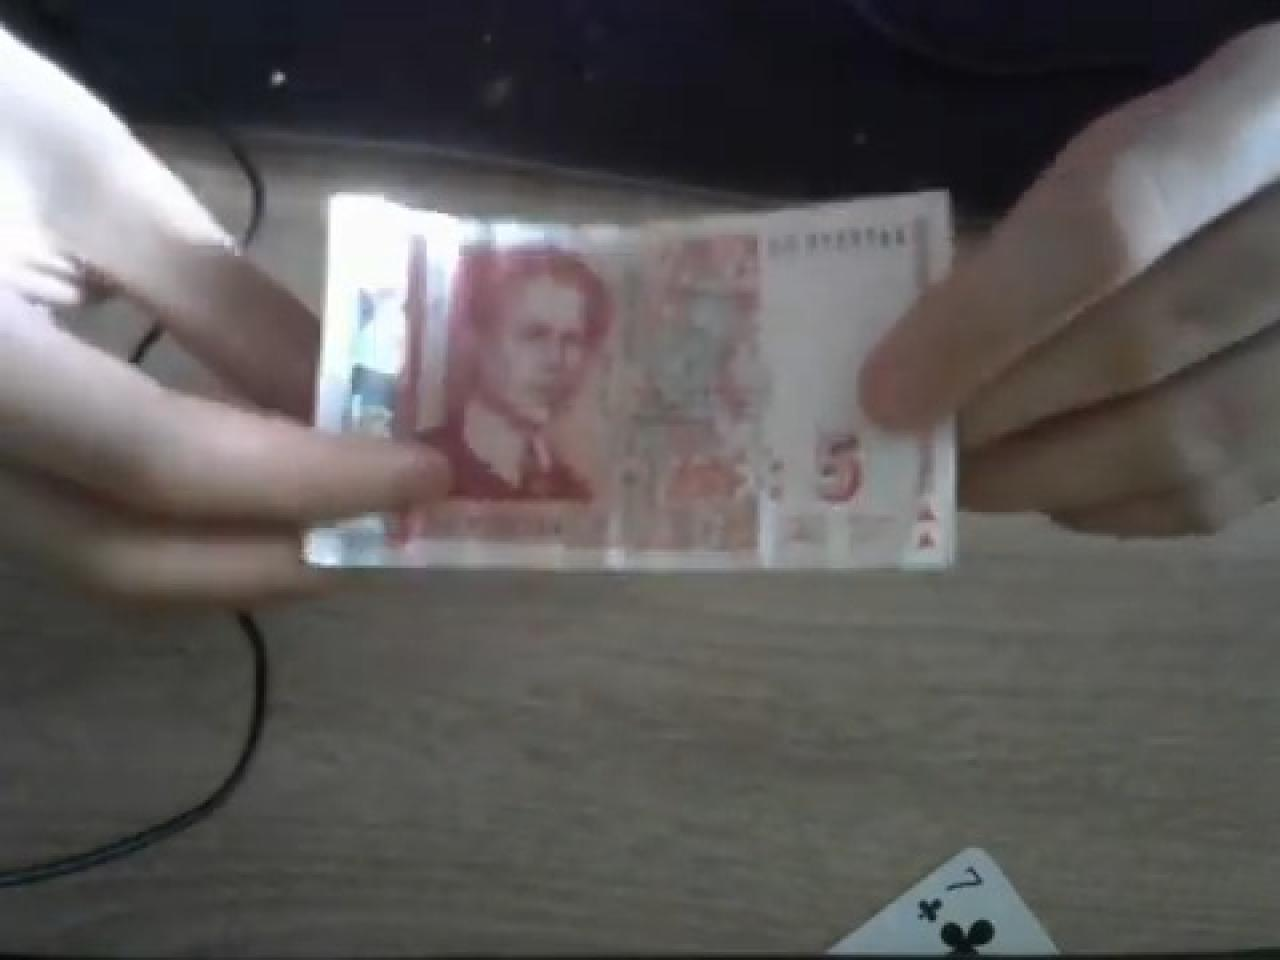5leva: (454, 237, 752, 558)
